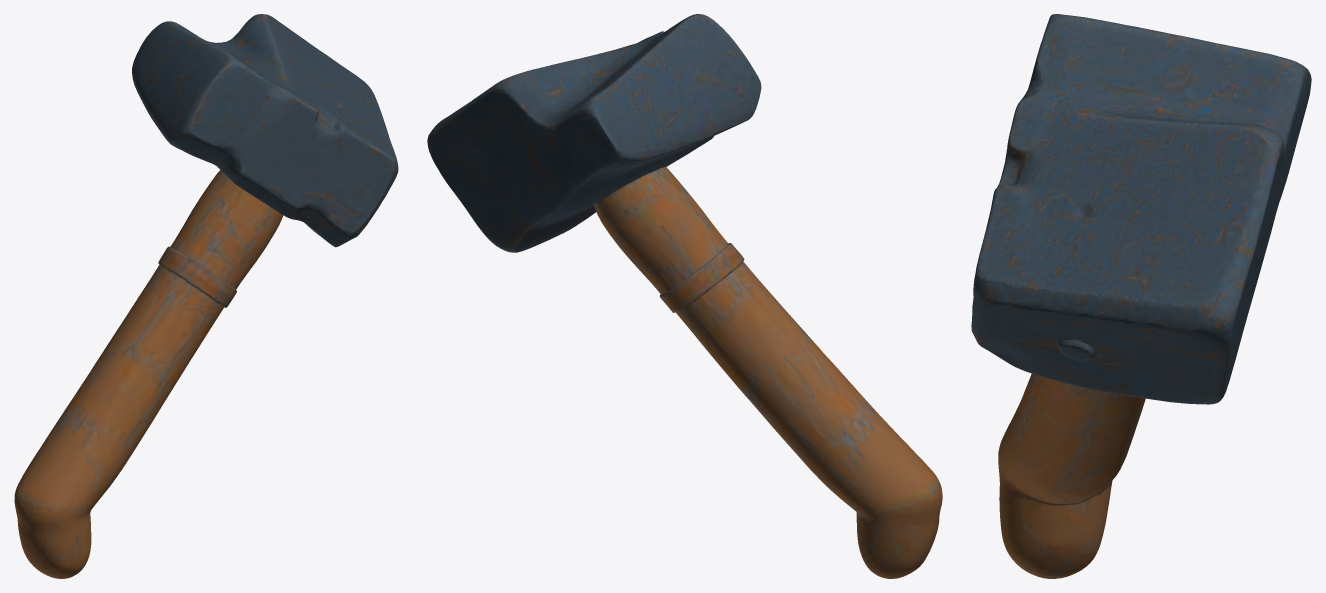
The model's file is hammer-BMvaXEgG.glb.
3 views of the same model, side by side, from view 1: azimuth 30°, elevation 25°; view 2: azimuth 150°, elevation 25°; view 3: azimuth 270°, elevation 25° (orthographic). The views are drawn at different scales.
Parts seen in each view (by area): view 1: mesh_node; view 2: mesh_node; view 3: mesh_node.
Part boxes in pixels (<box>): mesh_node: <box>14,14,398,578</box>; mesh_node: <box>427,14,942,578</box>; mesh_node: <box>971,14,1311,578</box>.
Size of the model in its own units: 1.71 by 1.9 by 0.8583.
Materials: 1 (1 with a texture image).
